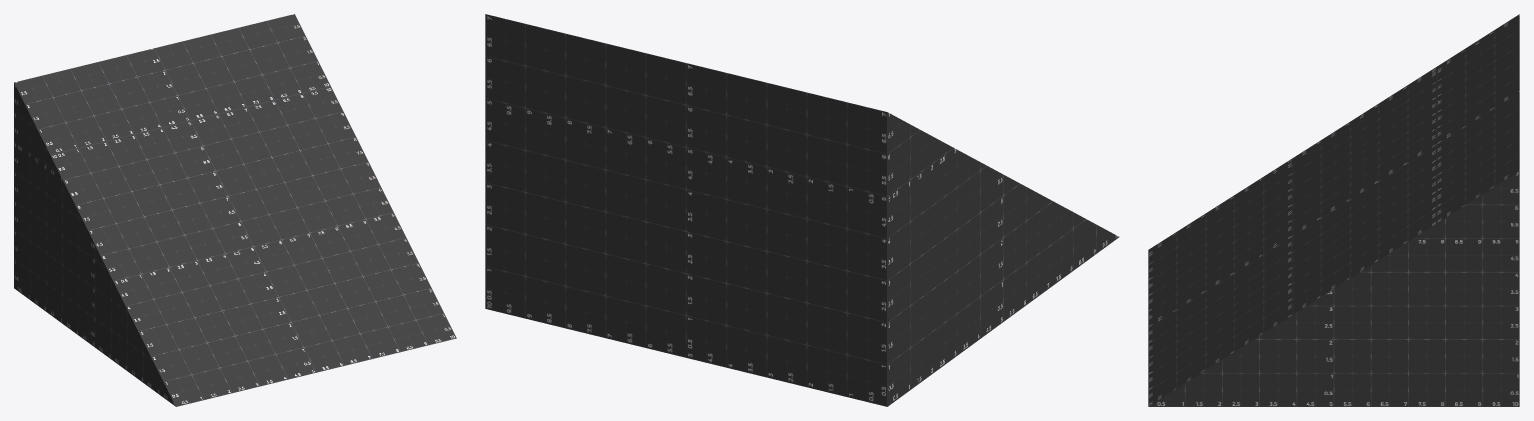
Rendered from WedgeFloor_07.fbx.
3 renders of one model, left to right at view 1: azimuth 30°, elevation 25°; view 2: azimuth 150°, elevation 25°; view 3: azimuth 270°, elevation 25°, orthographic. The views are drawn at different scales.
Parts seen in each view (by area): view 1: WedgeFloor_07; view 2: WedgeFloor_07; view 3: WedgeFloor_07.
Boxes of the visible parts, x1=… form: WedgeFloor_07: x1=14, y1=14, x2=456, y2=406; WedgeFloor_07: x1=485, y1=14, x2=1119, y2=406; WedgeFloor_07: x1=1148, y1=14, x2=1519, y2=406.
Bounding box in the file's own units: 10 × 7.01 × 10.
